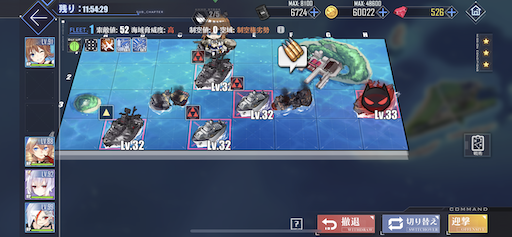boss: (354, 81, 400, 118)
lv1: (99, 106, 140, 148)
lv3: (183, 105, 229, 149), (230, 74, 273, 120), (191, 50, 235, 90)
